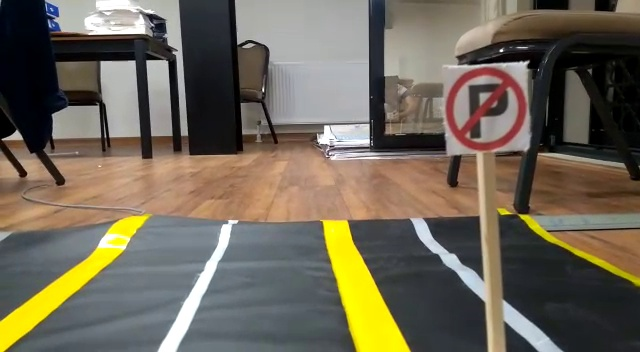park_yapilmaz: (443, 68, 527, 151)
